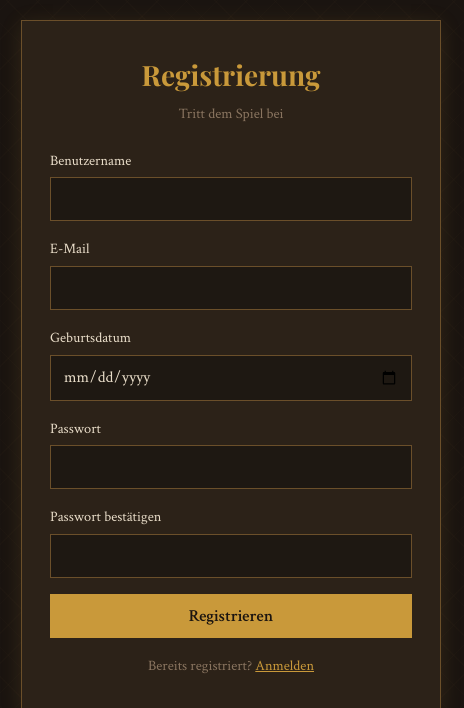
it: RegisterPage › Alterscheck: Nutzer unter 16 → clientseitige Fehlermeldung
Type "jung" into the field labelled "Benutzername" at (231,200), box [50, 178, 412, 222]
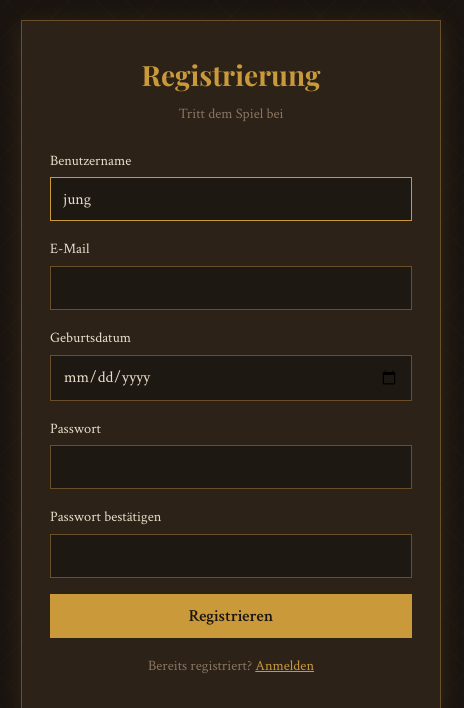
Type "jung@test.de" into the field labelled "E-Mail" at (231,288), box [50, 266, 412, 310]
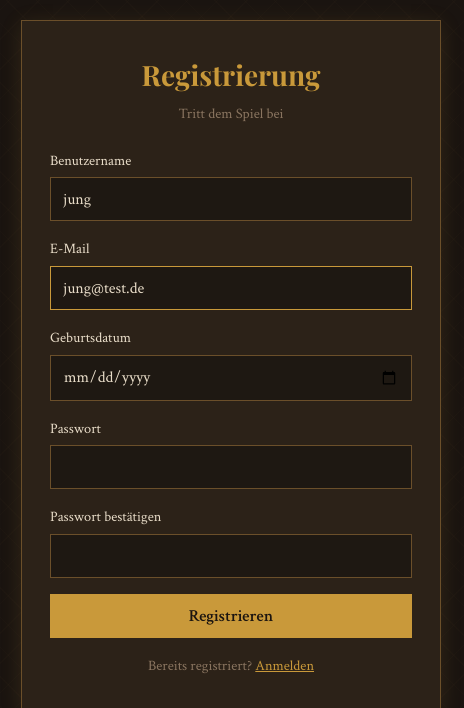
Type "2015-06-04" into the date field labelled "Geburtsdatum" at (231,378), box [50, 355, 412, 401]
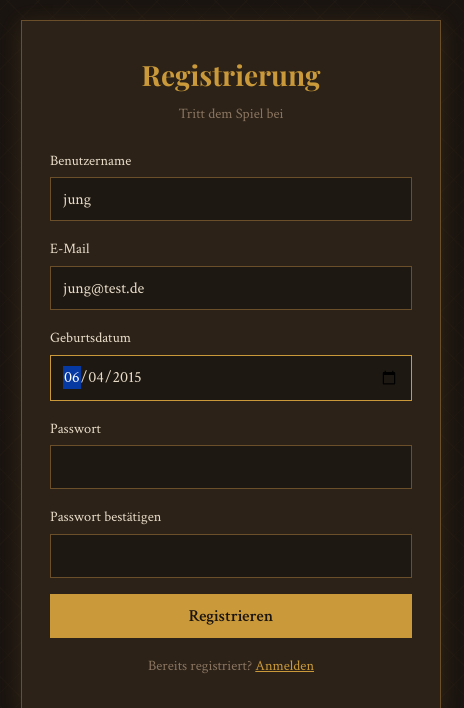
Type "GeheimesPasswort123" into the password field labelled "Passwort" at (231,467), box [50, 445, 412, 489]
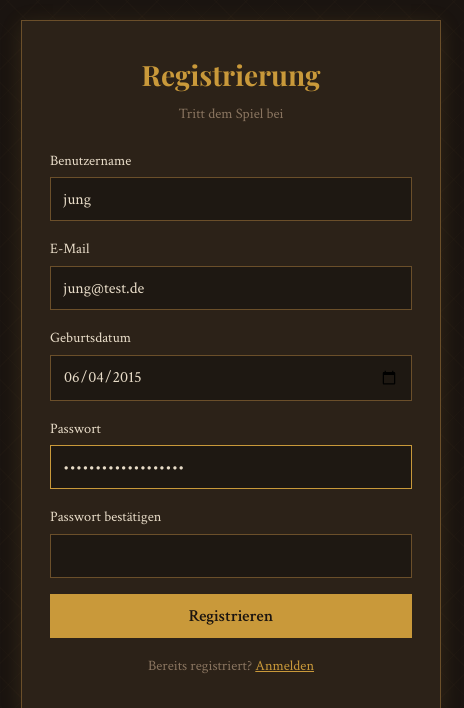
Type "GeheimesPasswort123" into the password field labelled "Passwort bestätigen" at (231,556), box [50, 534, 412, 578]
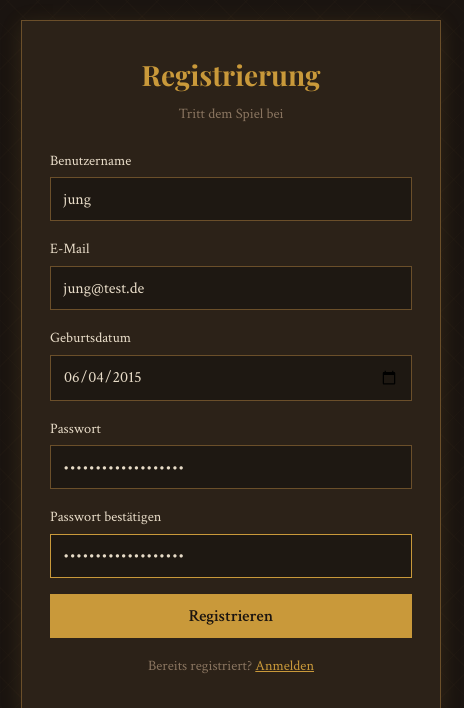
Click the button "Registrieren" at (231,616), box [50, 594, 412, 638]
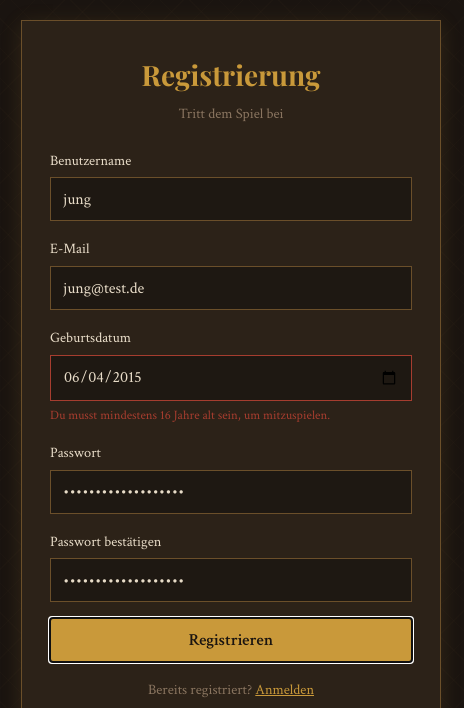
Expected: the text "Du musst mindestens 16 Jahre alt sein, um mitzuspielen." is shown, [50, 406, 330, 422]
